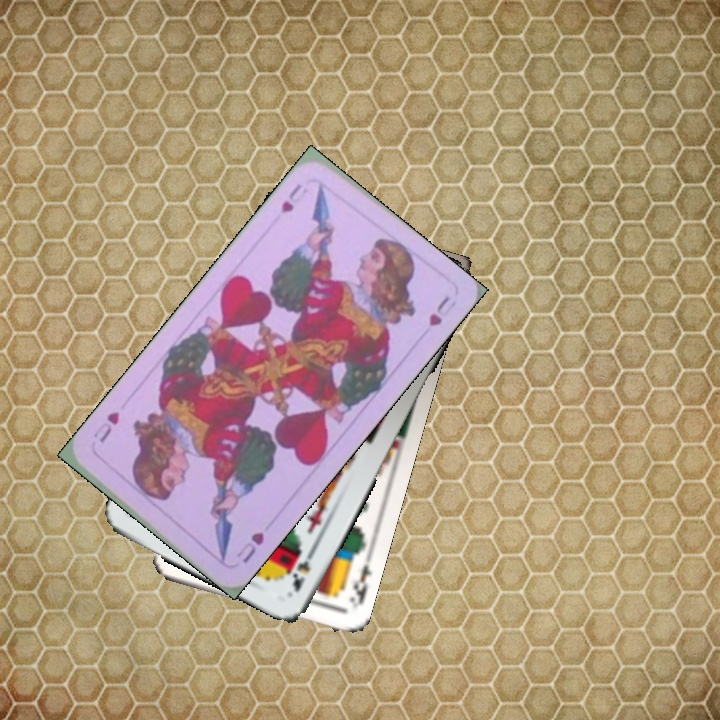EK: (345, 560, 374, 612)
HU: (232, 528, 267, 566), (276, 179, 310, 216)
SK: (288, 541, 319, 595)
